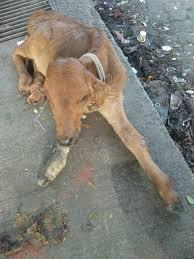fracture: (98, 105, 194, 226)
